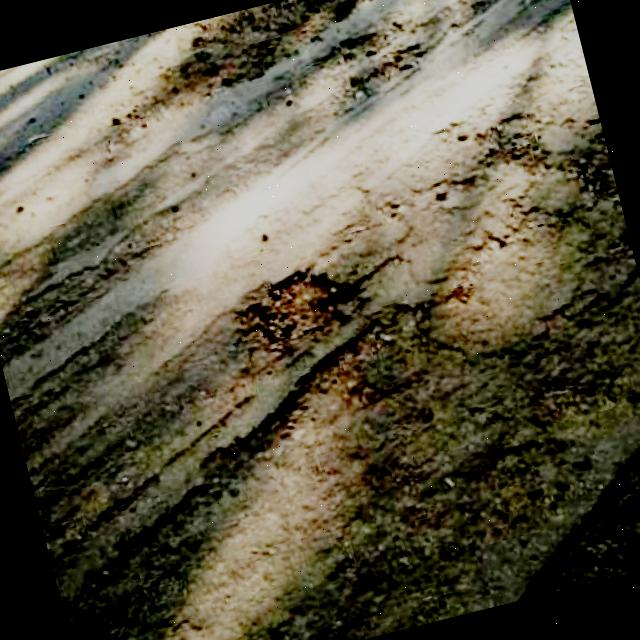pothole: (244, 255, 364, 359)
